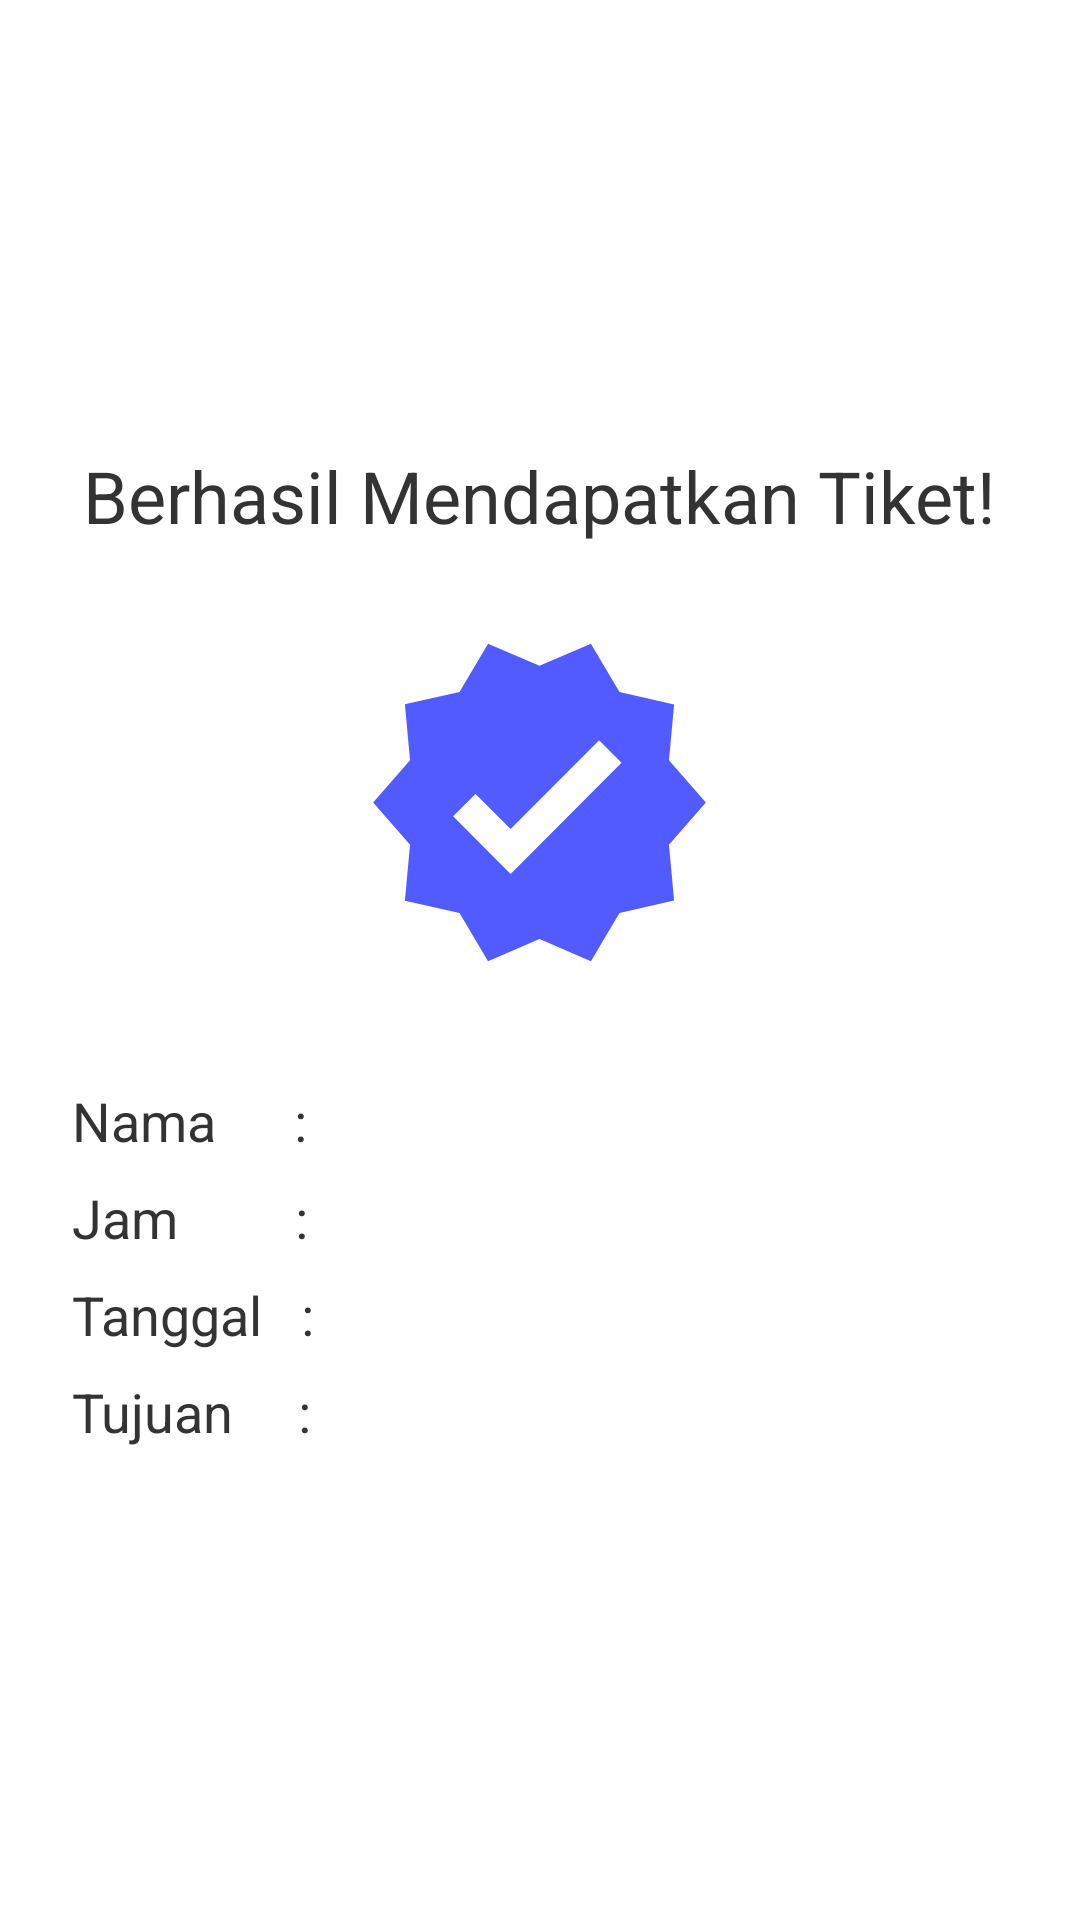

Screen size 1080 × 1920. Icon name, then its center in pixels as (x,y):
verified: (539,802)
